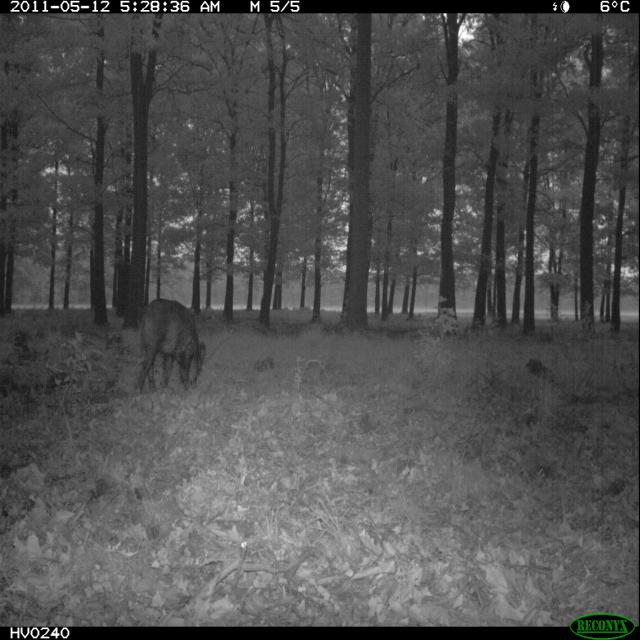boar: (133, 293, 219, 406)
